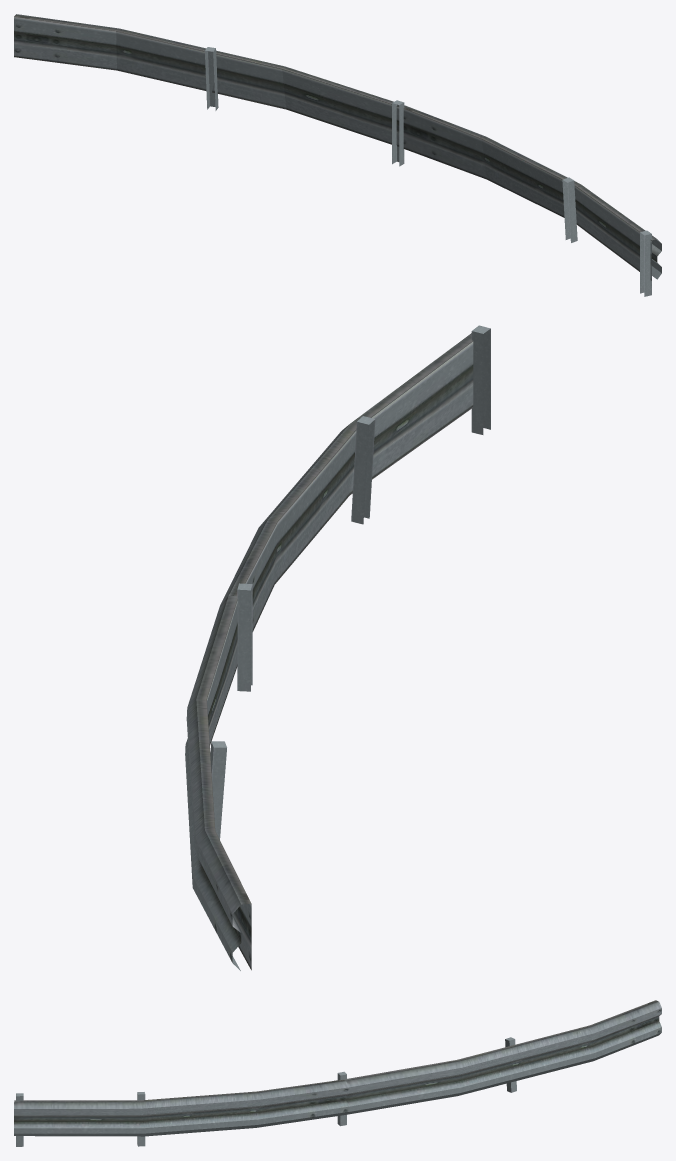
Rendered from road_fance_curve_right_2.fbx.
3 views of the same model, one above another, from view 1: azimuth 30°, elevation 25°; view 2: azimuth 150°, elevation 25°; view 3: azimuth 270°, elevation 25° (orthographic). The views are drawn at different scales.
Visible parts, largest first — view 1: road_fance_curve_right_2; view 2: road_fance_curve_right_2; view 3: road_fance_curve_right_2.
Boxes of the visible parts, x1,y1,x2,y2 form: road_fance_curve_right_2: [14, 14, 661, 296]; road_fance_curve_right_2: [185, 325, 490, 970]; road_fance_curve_right_2: [14, 1000, 661, 1146].
Size of the model in its own units: 5.04 by 1.14 by 13.16.
